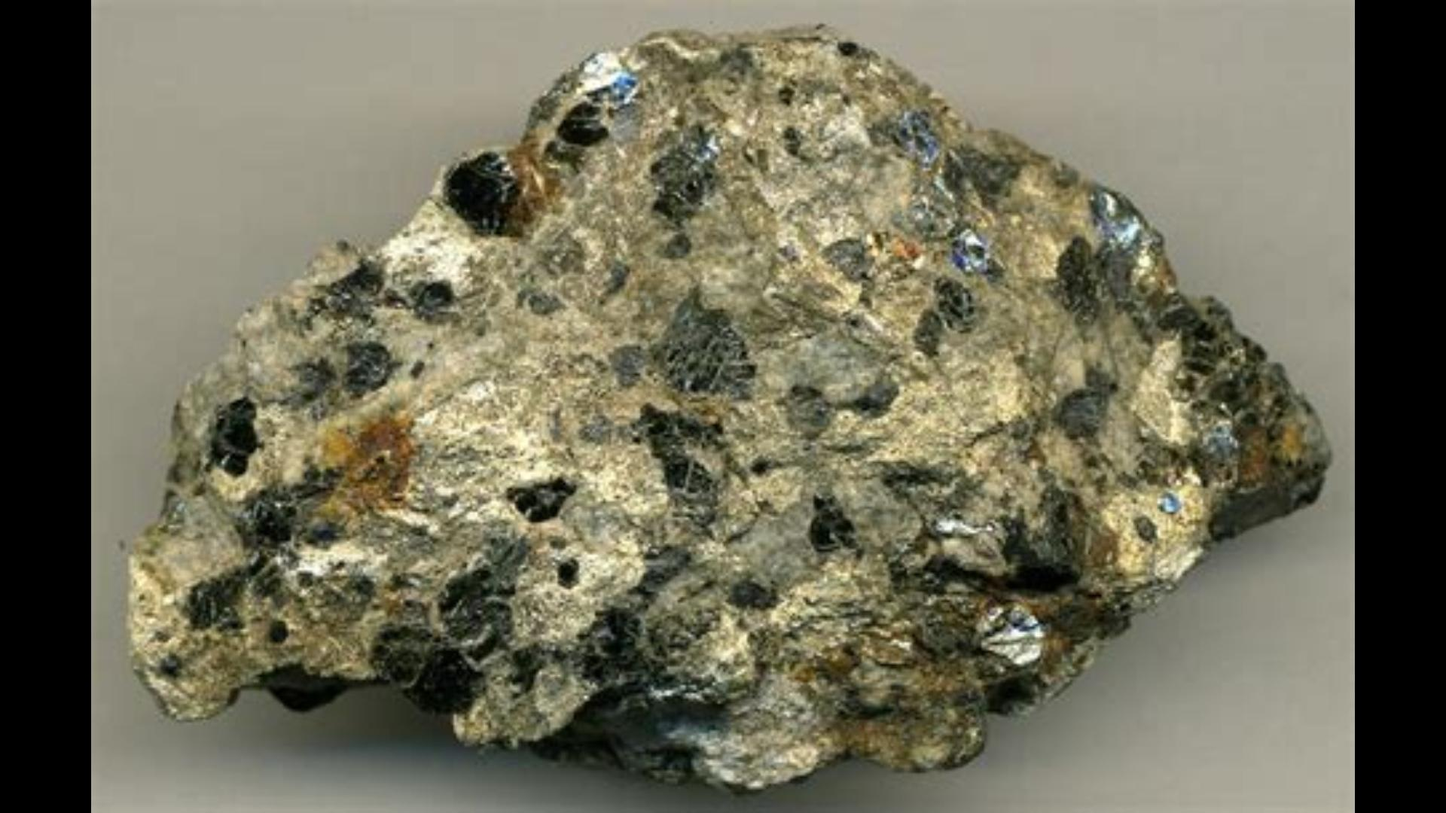rock: (131, 32, 1323, 776)
